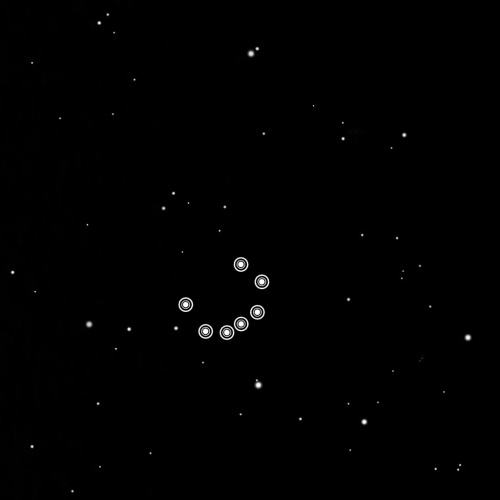corona_borealis: (174, 248, 273, 346)
